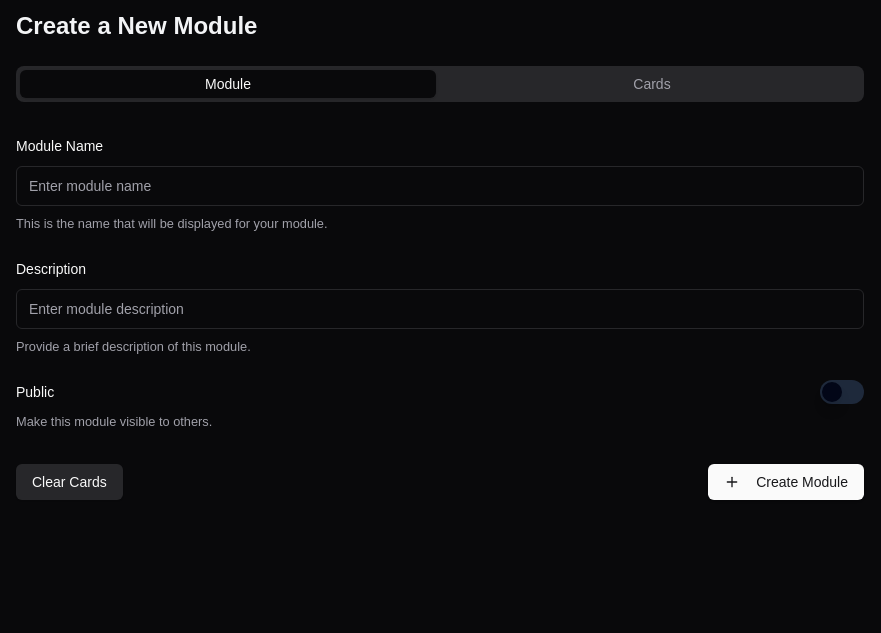
Test: CreateModulePage › navigates to Cards tab and shows card section
Click the tab "Cards" at (652, 84), box [444, 70, 860, 98]
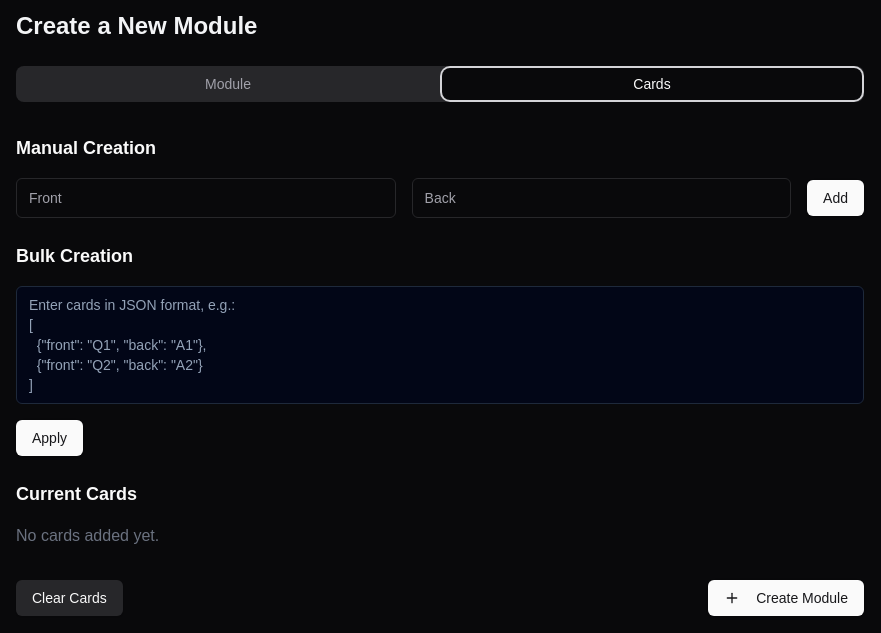
expect the field with placeholder "Front" is shown: met, box [16, 178, 396, 218]
